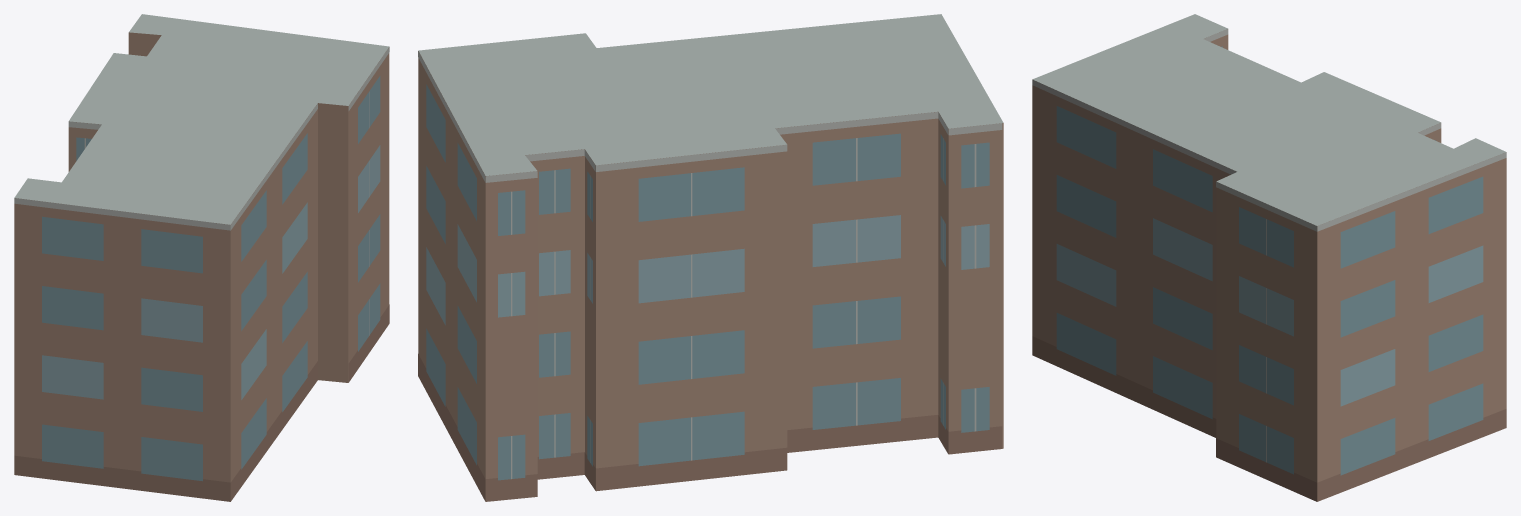
The model's file is survey-upis-32755153.glb.
The picture shows the model from 3 angles, left to right: view 1: azimuth 30°, elevation 25°; view 2: azimuth 150°, elevation 25°; view 3: azimuth 270°, elevation 25°; orthographic projection. The views are drawn at different scales.
Visible parts, largest first — view 1: survey-upis-32755153.tmp; view 2: survey-upis-32755153.tmp; view 3: survey-upis-32755153.tmp.
Part boxes in pixels (box(x1,y1,x2,y2)): survey-upis-32755153.tmp: box(14, 14, 389, 501); survey-upis-32755153.tmp: box(418, 14, 1003, 501); survey-upis-32755153.tmp: box(1032, 14, 1506, 501).
Size of the model in its own units: 19.3 by 11.7 by 18.24.
